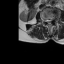CCS_normal: (48, 17, 50, 26)
LFS_normal: (51, 15, 53, 23)
LLS_normal: (50, 17, 51, 24)
RFS_normal: (44, 17, 46, 24)
RLS_normal: (46, 17, 48, 24)
